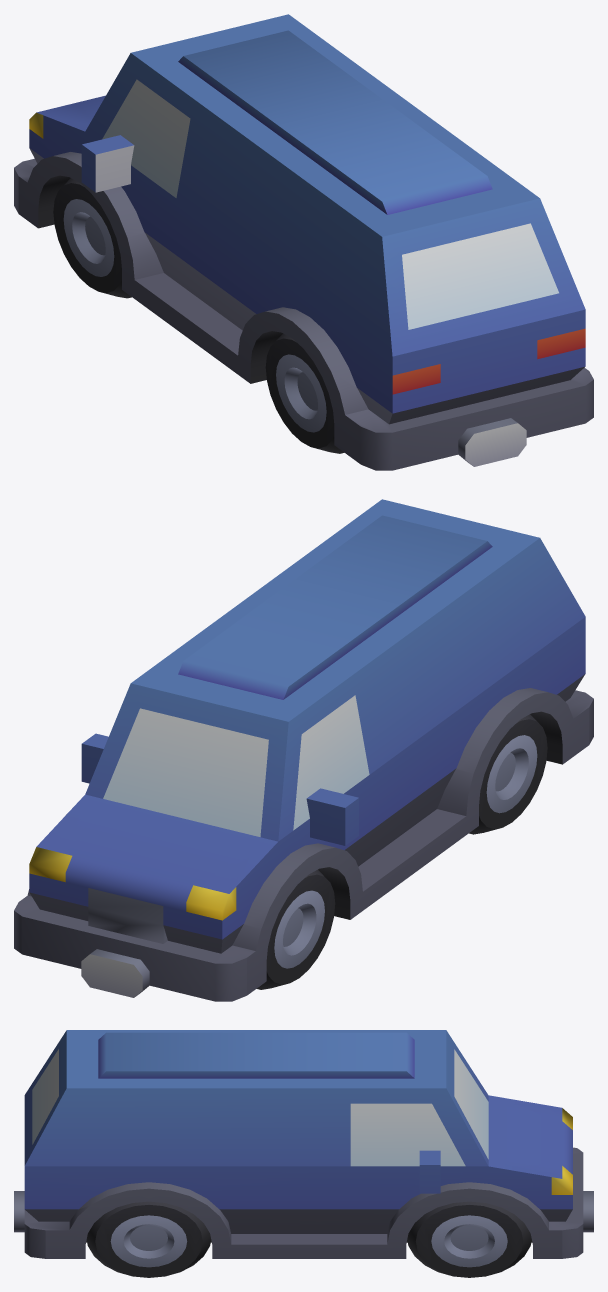
Rendered from kenney-people-carrier.glb.
3 views of the same model, one above another, from view 1: azimuth 30°, elevation 25°; view 2: azimuth 150°, elevation 25°; view 3: azimuth 270°, elevation 25° (orthographic). The views are drawn at different scales.
Parts seen in each view (by area): view 1: body, wheel-back-left, wheel-front-left; view 2: body, wheel-front-left, wheel-back-left; view 3: body, wheel-front-right, wheel-back-right.
Boxes of the visible parts, x1,y1,x2,y2 form: body: (14,14,593,470); wheel-back-left: (265,333,344,453); wheel-front-left: (53,178,131,298); body: (14,499,593,1001); wheel-front-left: (256,869,335,989); wheel-back-left: (469,714,547,834); body: (14,1030,593,1258); wheel-front-right: (407,1201,531,1277); wheel-back-right: (86,1201,211,1277).
Size of the model in its own units: 1.88 by 1.75 by 4.75.
